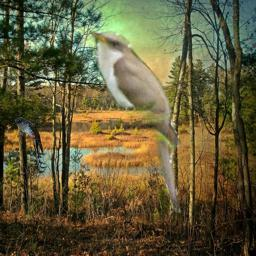Cuckoo: (83, 26, 185, 216), (11, 117, 44, 171)
